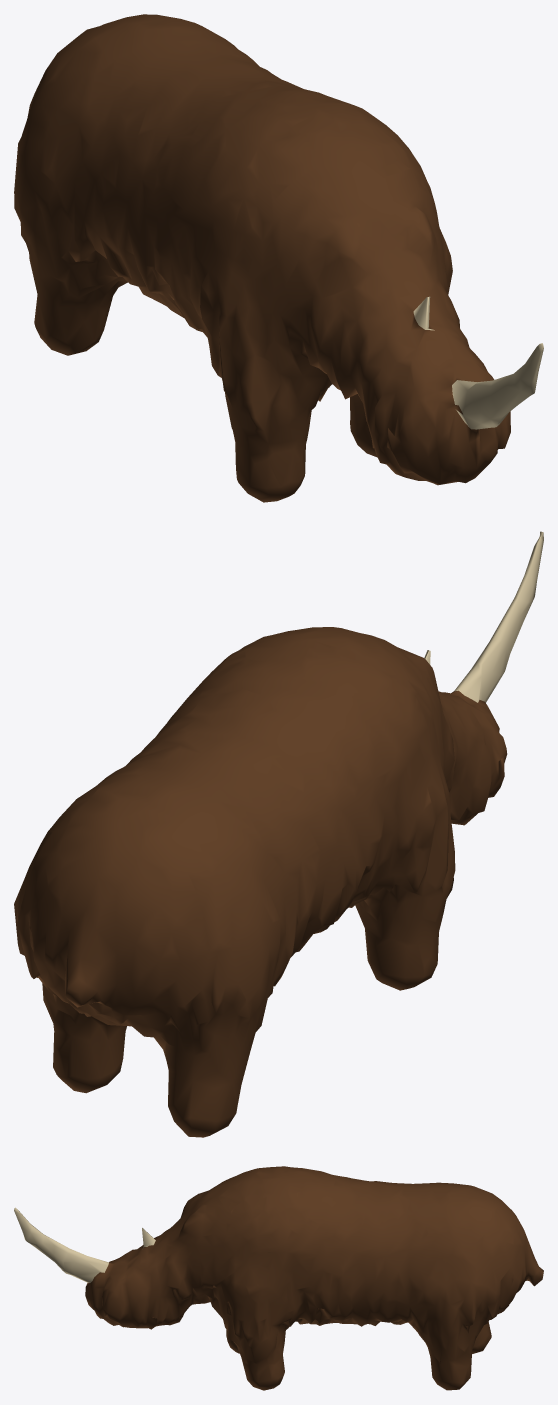
File: sdf_rhino.obj
3 views of the same model, one above another, from view 1: azimuth 30°, elevation 25°; view 2: azimuth 150°, elevation 25°; view 3: azimuth 270°, elevation 25° (orthographic). The views are drawn at different scales.
Visible parts, largest first — view 1: sdf_rhino; view 2: sdf_rhino; view 3: sdf_rhino.
Part boxes in pixels (x1=…): sdf_rhino: x1=14, y1=14, x2=543, y2=502; sdf_rhino: x1=14, y1=531, x2=543, y2=1137; sdf_rhino: x1=14, y1=1166, x2=543, y2=1390.
Bounding box in the file's own units: 1.48 × 2.02 × 4.94.
